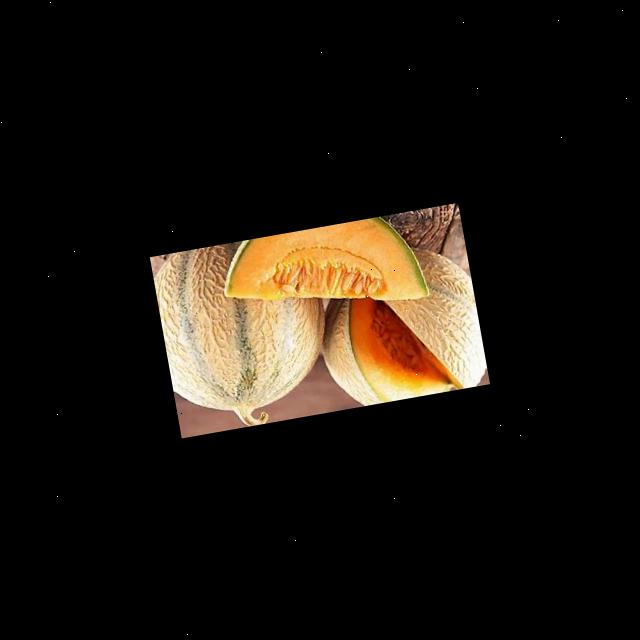Hami Melon: (151, 228, 342, 438), (307, 240, 490, 412), (217, 210, 431, 330)
